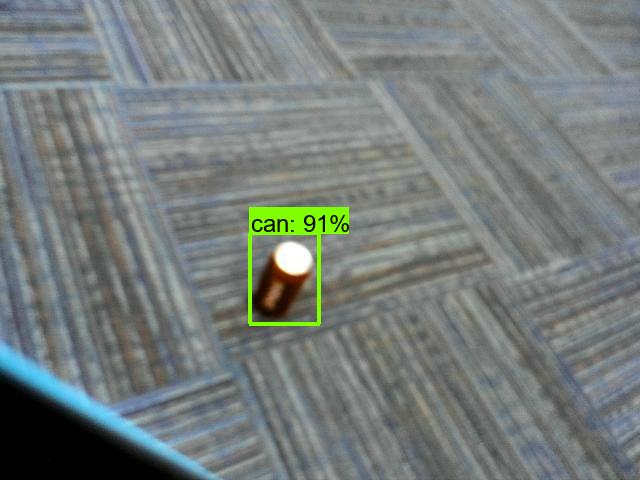can: (249, 235, 321, 329)
